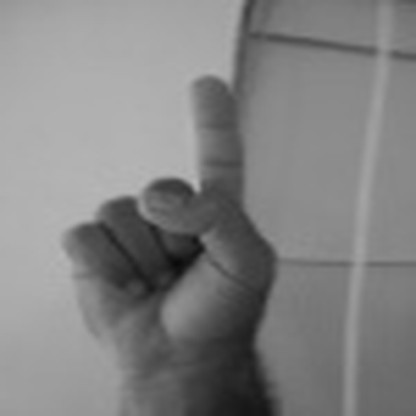d: (58, 68, 280, 352)
